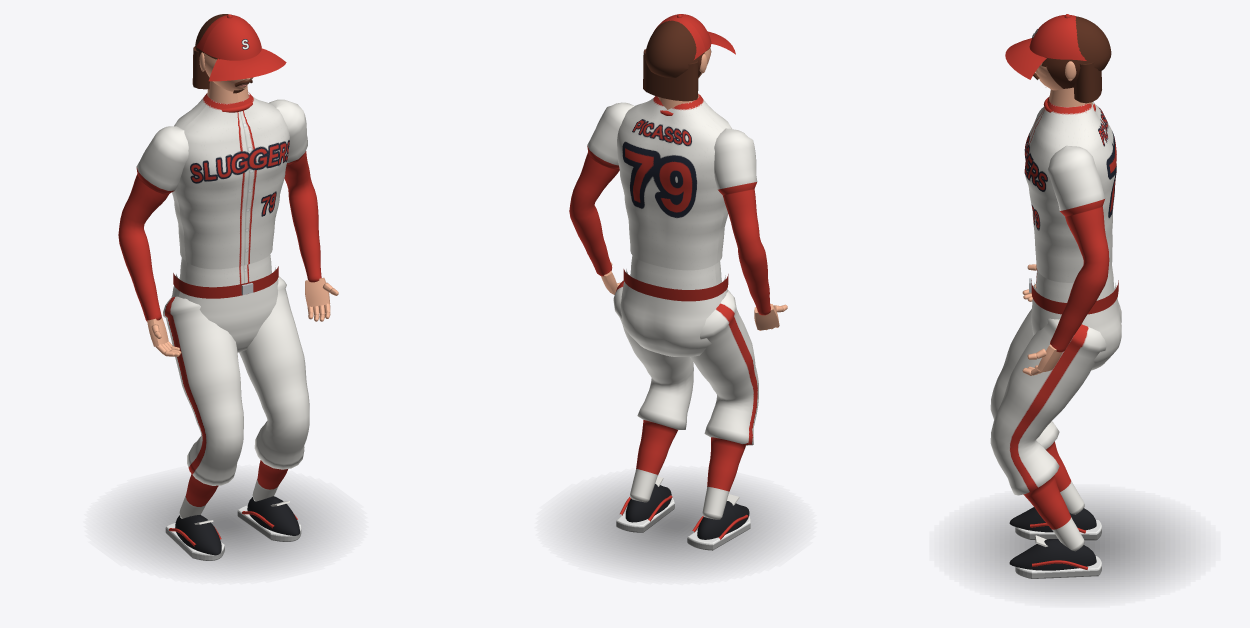
File: player_18_home.glb
3 renders of one model, left to right at view 1: azimuth 30°, elevation 25°; view 2: azimuth 150°, elevation 25°; view 3: azimuth 270°, elevation 25°, orthographic. The views are drawn at different scales.
Visible parts, largest first — view 1: player_18_home, object 33, object 35, object 2; view 2: player_18_home, object 29, object 30, object 33; view 3: player_18_home, object 33, object 29, object 35, object 37, object 30, object 2.
Part boxes in pixels (<box>): player_18_home: <box>117,92,334,570</box>; object 33: <box>196,15,261,60</box>; object 35: <box>208,48,286,81</box>; object 2: <box>207,81,248,103</box>; player_18_home: <box>568,94,783,570</box>; object 29: <box>645,20,710,77</box>; object 30: <box>643,49,698,101</box>; object 33: <box>654,14,711,59</box>; player_18_home: <box>964,96,1185,592</box>; object 33: <box>1029,15,1086,60</box>; object 29: <box>1045,16,1111,71</box>; object 35: <box>1005,38,1046,79</box>; object 37: <box>1035,59,1099,90</box>; object 30: <box>1074,62,1101,103</box>; object 2: <box>1049,87,1092,107</box>.
Bounding box in the file's own units: 3.13 × 5.81 × 3.13.
Materials: 27 (5 with a texture image).
